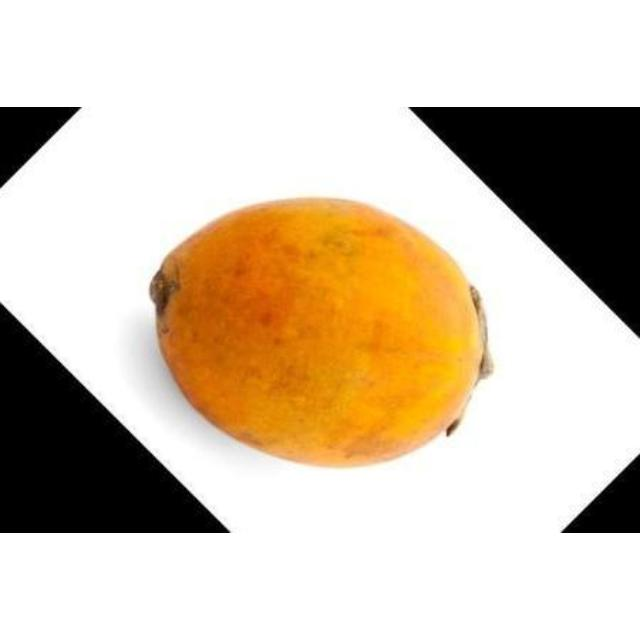good: (148, 197, 485, 471)
